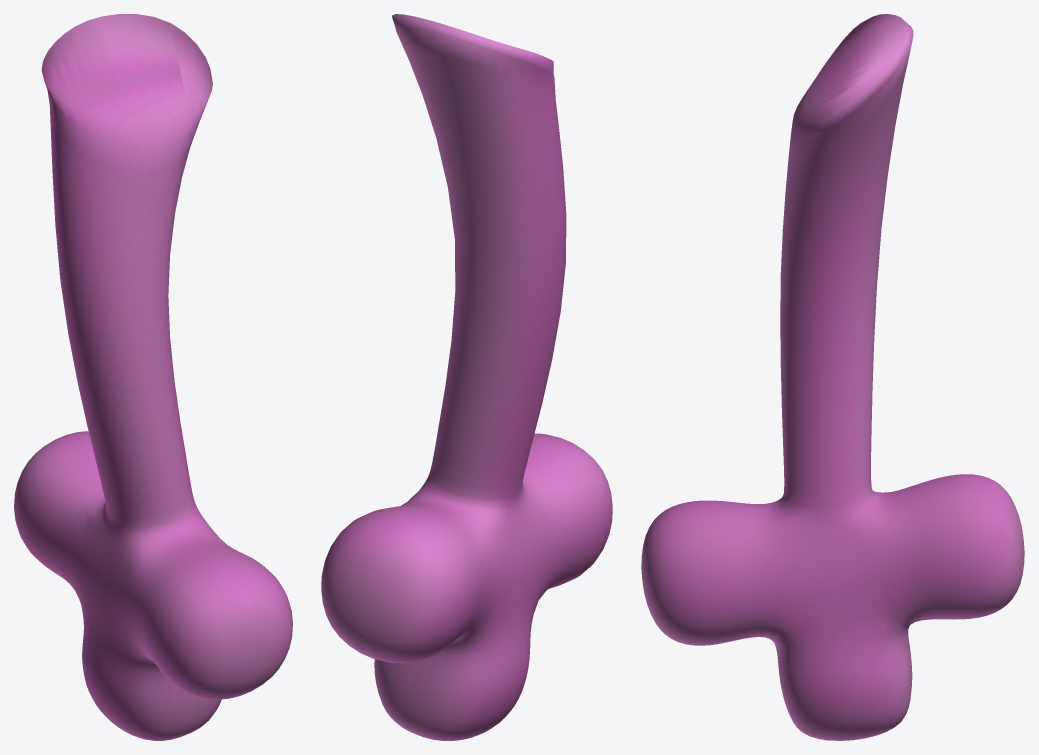
Rendered from pataDer.obj.
The picture shows the model from 3 angles, left to right: view 1: azimuth 30°, elevation 25°; view 2: azimuth 150°, elevation 25°; view 3: azimuth 270°, elevation 25°; orthographic projection. The views are drawn at different scales.
Parts seen in each view (by area): view 1: courage.003; view 2: courage.003; view 3: courage.003.
Boxes of the visible parts, x1,y1,x2,y2 form: courage.003: (14,14,292,740); courage.003: (321,14,612,740); courage.003: (641,14,1024,740).
Bounding box in the file's own units: 0.2845 × 1.15 × 0.5802.
